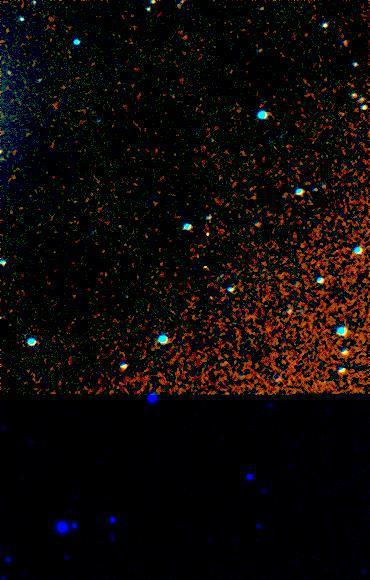star: (194, 218, 224, 248)
